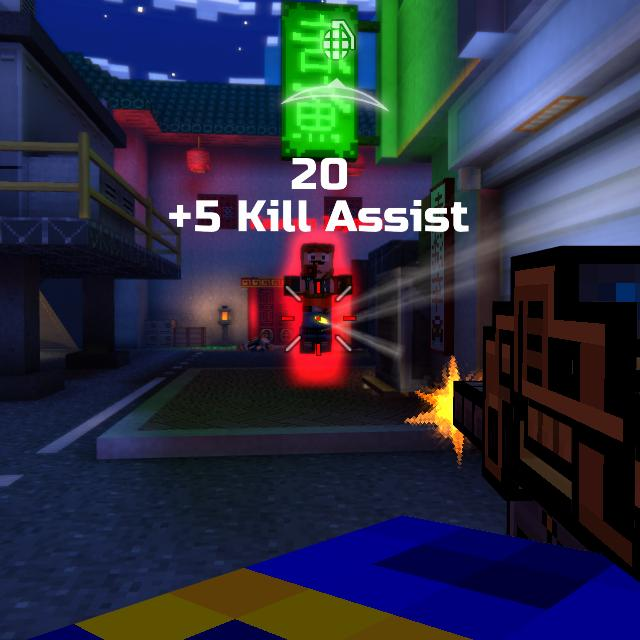Enemy: (285, 245, 356, 358)
